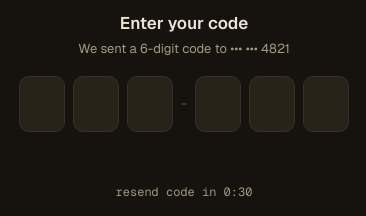
Test: OtpInput — checking › verify throwing shows the “couldn't check” message
The width and height of the screenshot is (366, 216).
Step 1. Click the field named "Digit 1 of 6" → click(42, 104), box [19,76,65,132]
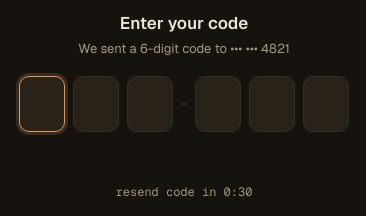
Step 2. Type keys "111111"
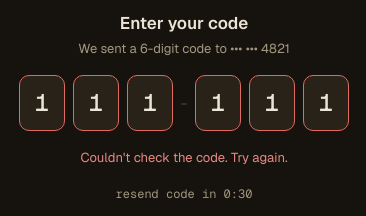
Expected: the message reads "Couldn't check the code. Try again.", [80,148,288,166]
